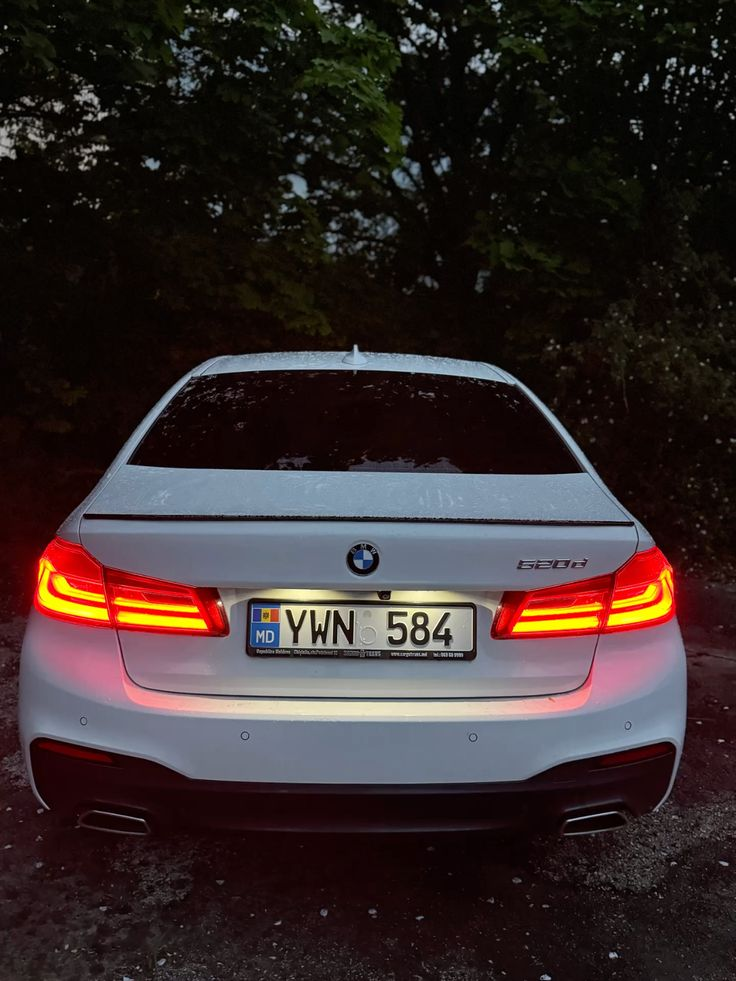plate: (245, 602, 476, 658)
